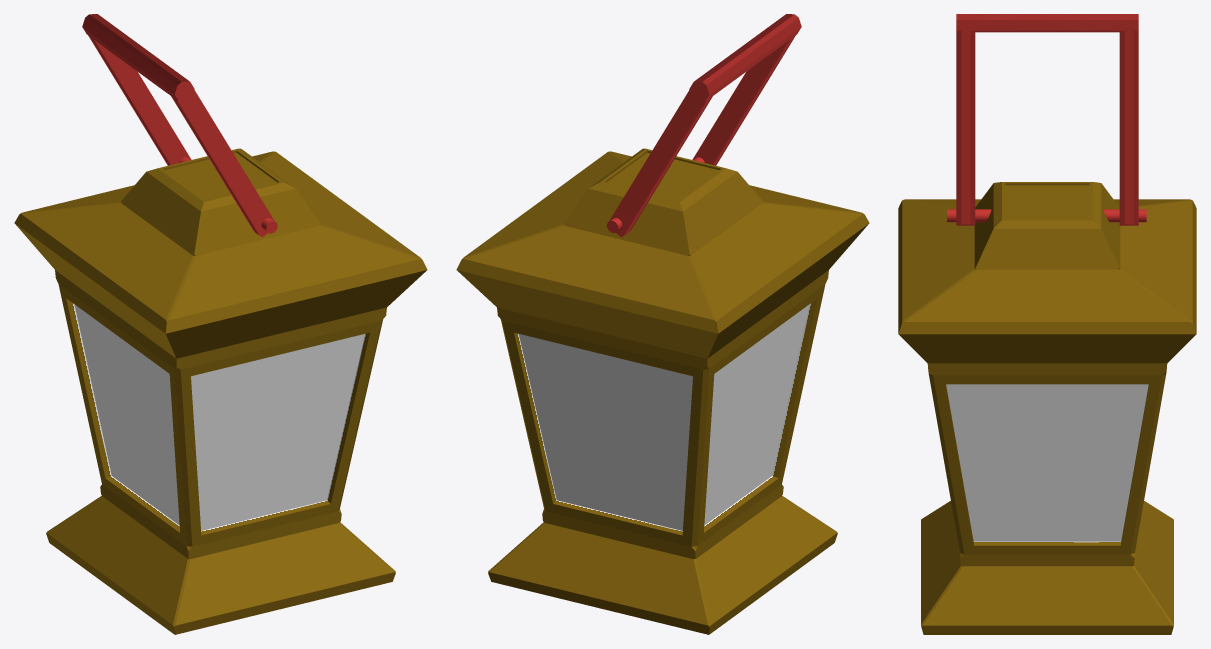
The model's file is candil.obj.
3 renders of one model, left to right at view 1: azimuth 30°, elevation 25°; view 2: azimuth 150°, elevation 25°; view 3: azimuth 270°, elevation 25°, orthographic.
Parts seen in each view (by area): view 1: Cube, Cube_001; view 2: Cube, Cube_001; view 3: Cube, Cube_001, Cylinder.
Part boxes in pixels (bbox=[...]): Cube: bbox=[14, 148, 427, 634]; Cube_001: bbox=[82, 14, 274, 237]; Cube: bbox=[456, 148, 869, 634]; Cube_001: bbox=[609, 14, 801, 237]; Cube: bbox=[898, 182, 1196, 634]; Cube_001: bbox=[956, 14, 1138, 225]; Cylinder: bbox=[947, 209, 1146, 222].
Size of the model in its own units: 2.74 by 5.52 by 2.74.
